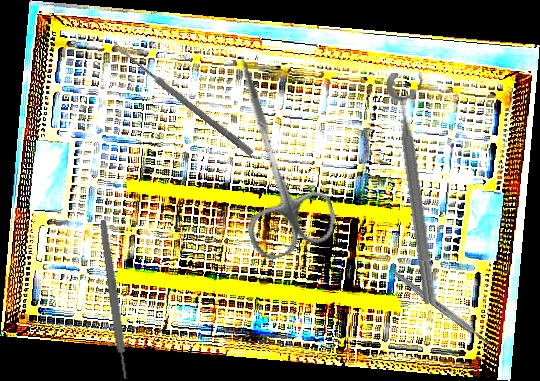Fixation Ring: (385, 68, 456, 306)
Iris Scissors: (196, 45, 343, 265)
Scalpel Handle: (391, 269, 492, 347), (98, 219, 130, 380)
Surgical Spoon: (111, 41, 255, 157)
